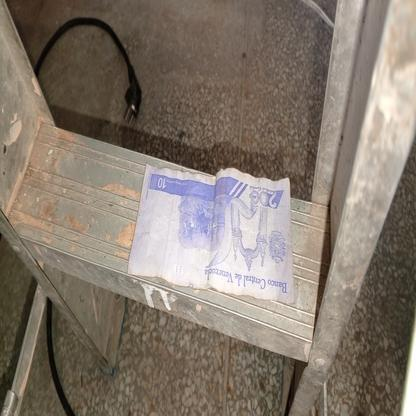ten-back-vef: (127, 164, 294, 306)
